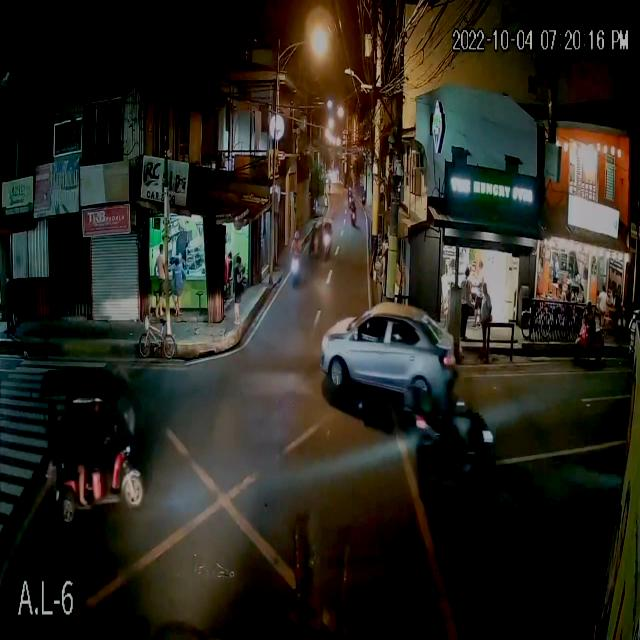Full-Faced: (294, 227, 302, 242)
